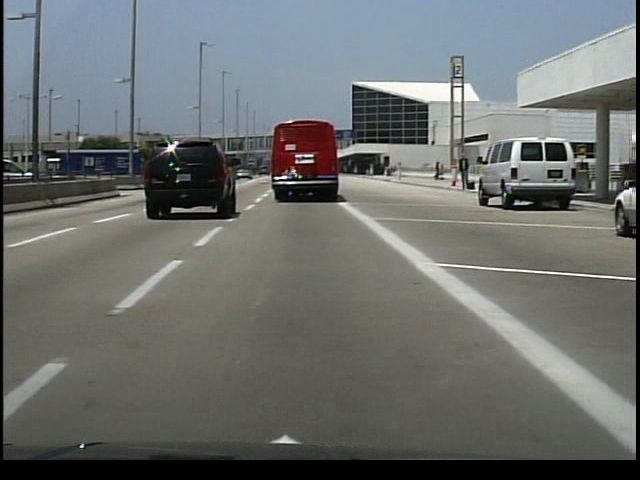person: (457, 153, 471, 196)
